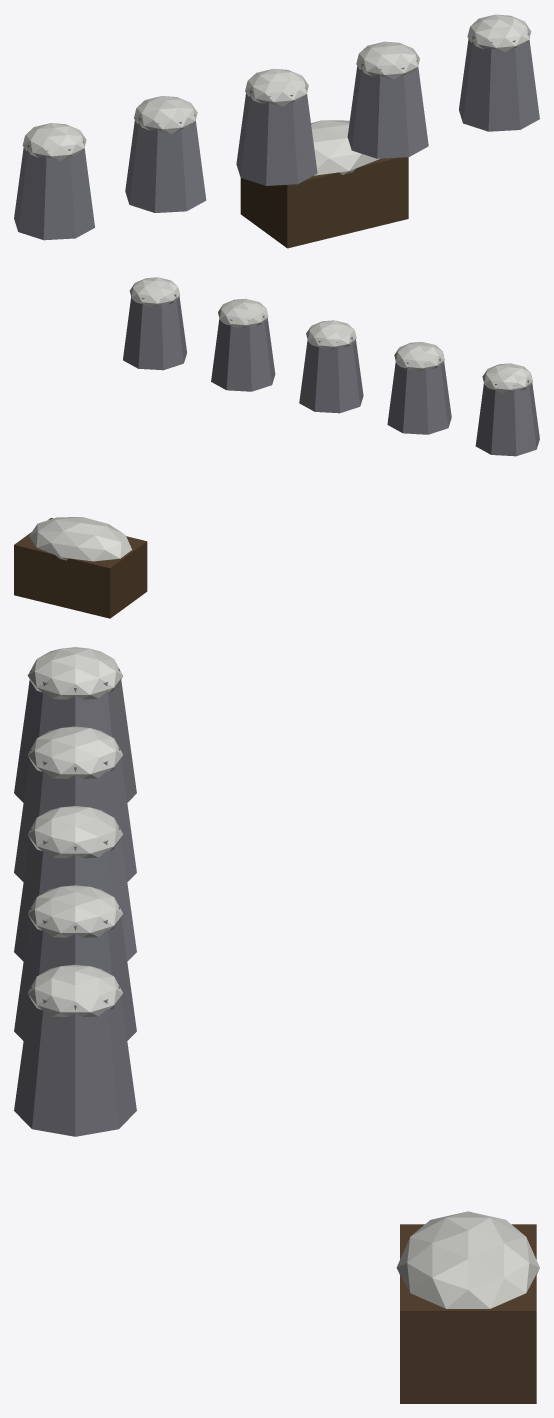
The model's file is village_goods_salt.glb.
3 renders of one model, top to bottom at view 1: azimuth 30°, elevation 25°; view 2: azimuth 150°, elevation 25°; view 3: azimuth 270°, elevation 25°, orthographic. The views are drawn at different scales.
Visible parts, largest first — view 1: village_goods_salt; view 2: village_goods_salt; view 3: village_goods_salt.
Part boxes in pixels (bbox=[...]): village_goods_salt: bbox=[14, 14, 539, 248]; village_goods_salt: bbox=[14, 277, 539, 618]; village_goods_salt: bbox=[14, 647, 539, 1403].
Size of the model in its own units: 2.56 by 1.35 by 1.54.
